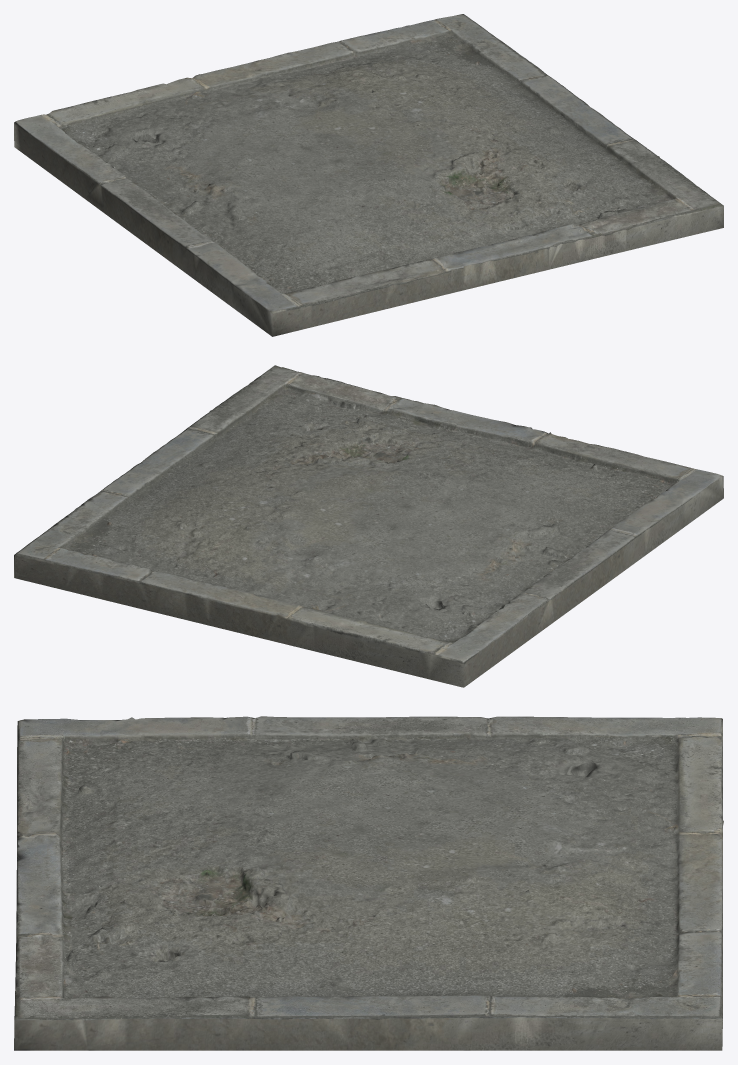
The model's file is PX_Tree_Pit_02_LOD0.fbx.
The picture shows the model from 3 angles, top to bottom: view 1: azimuth 30°, elevation 25°; view 2: azimuth 150°, elevation 25°; view 3: azimuth 270°, elevation 25°; orthographic projection. The views are drawn at different scales.
Visible parts, largest first — view 1: PX_Tree_Pit_02_LOD0; view 2: PX_Tree_Pit_02_LOD0; view 3: PX_Tree_Pit_02_LOD0.
Part boxes in pixels (x1=…): PX_Tree_Pit_02_LOD0: x1=14, y1=14, x2=723, y2=336; PX_Tree_Pit_02_LOD0: x1=14, y1=365, x2=723, y2=687; PX_Tree_Pit_02_LOD0: x1=14, y1=716, x2=723, y2=1050.
Bounding box in the file's own units: 99.74 × 8.82 × 99.98.
